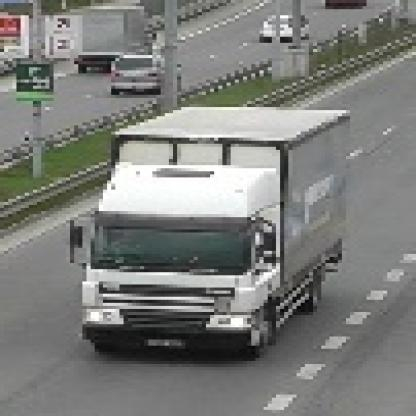truck: (67, 105, 347, 359)
